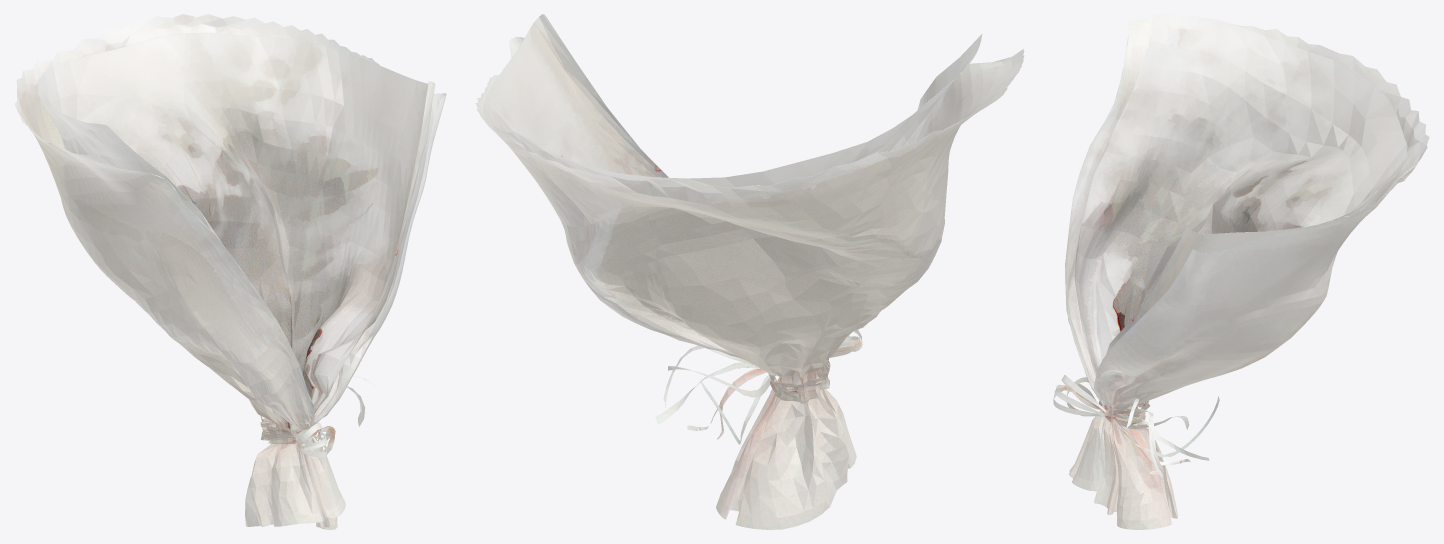
File: anniversary.glb
The picture shows the model from 3 angles, left to right: view 1: azimuth 30°, elevation 25°; view 2: azimuth 150°, elevation 25°; view 3: azimuth 270°, elevation 25°; orthographic projection. The views are drawn at different scales.
Parts seen in each view (by area): view 1: inner, outer, ribbon, parcel_knot; view 2: outer, inner, ribbon, parcel_knot; view 3: inner, outer, ribbon.
Part boxes in pixels (x1=…): inner: x1=38, y1=32, x2=435, y2=428; outer: x1=14, y1=14, x2=446, y2=529; ribbon: x1=260, y1=375, x2=376, y2=458; parcel_knot: x1=260, y1=418, x2=308, y2=444; outer: x1=475, y1=36, x2=1024, y2=529; inner: x1=488, y1=14, x2=982, y2=187; ribbon: x1=655, y1=329, x2=862, y2=444; parcel_knot: x1=767, y1=358, x2=830, y2=403; inner: x1=1074, y1=14, x2=1407, y2=376; outer: x1=1065, y1=18, x2=1429, y2=529; ribbon: x1=1053, y1=375, x2=1219, y2=478.
Size of the model in its own units: 0.5816 by 0.6098 by 0.4983.
Materials: 3 (3 with a texture image).
